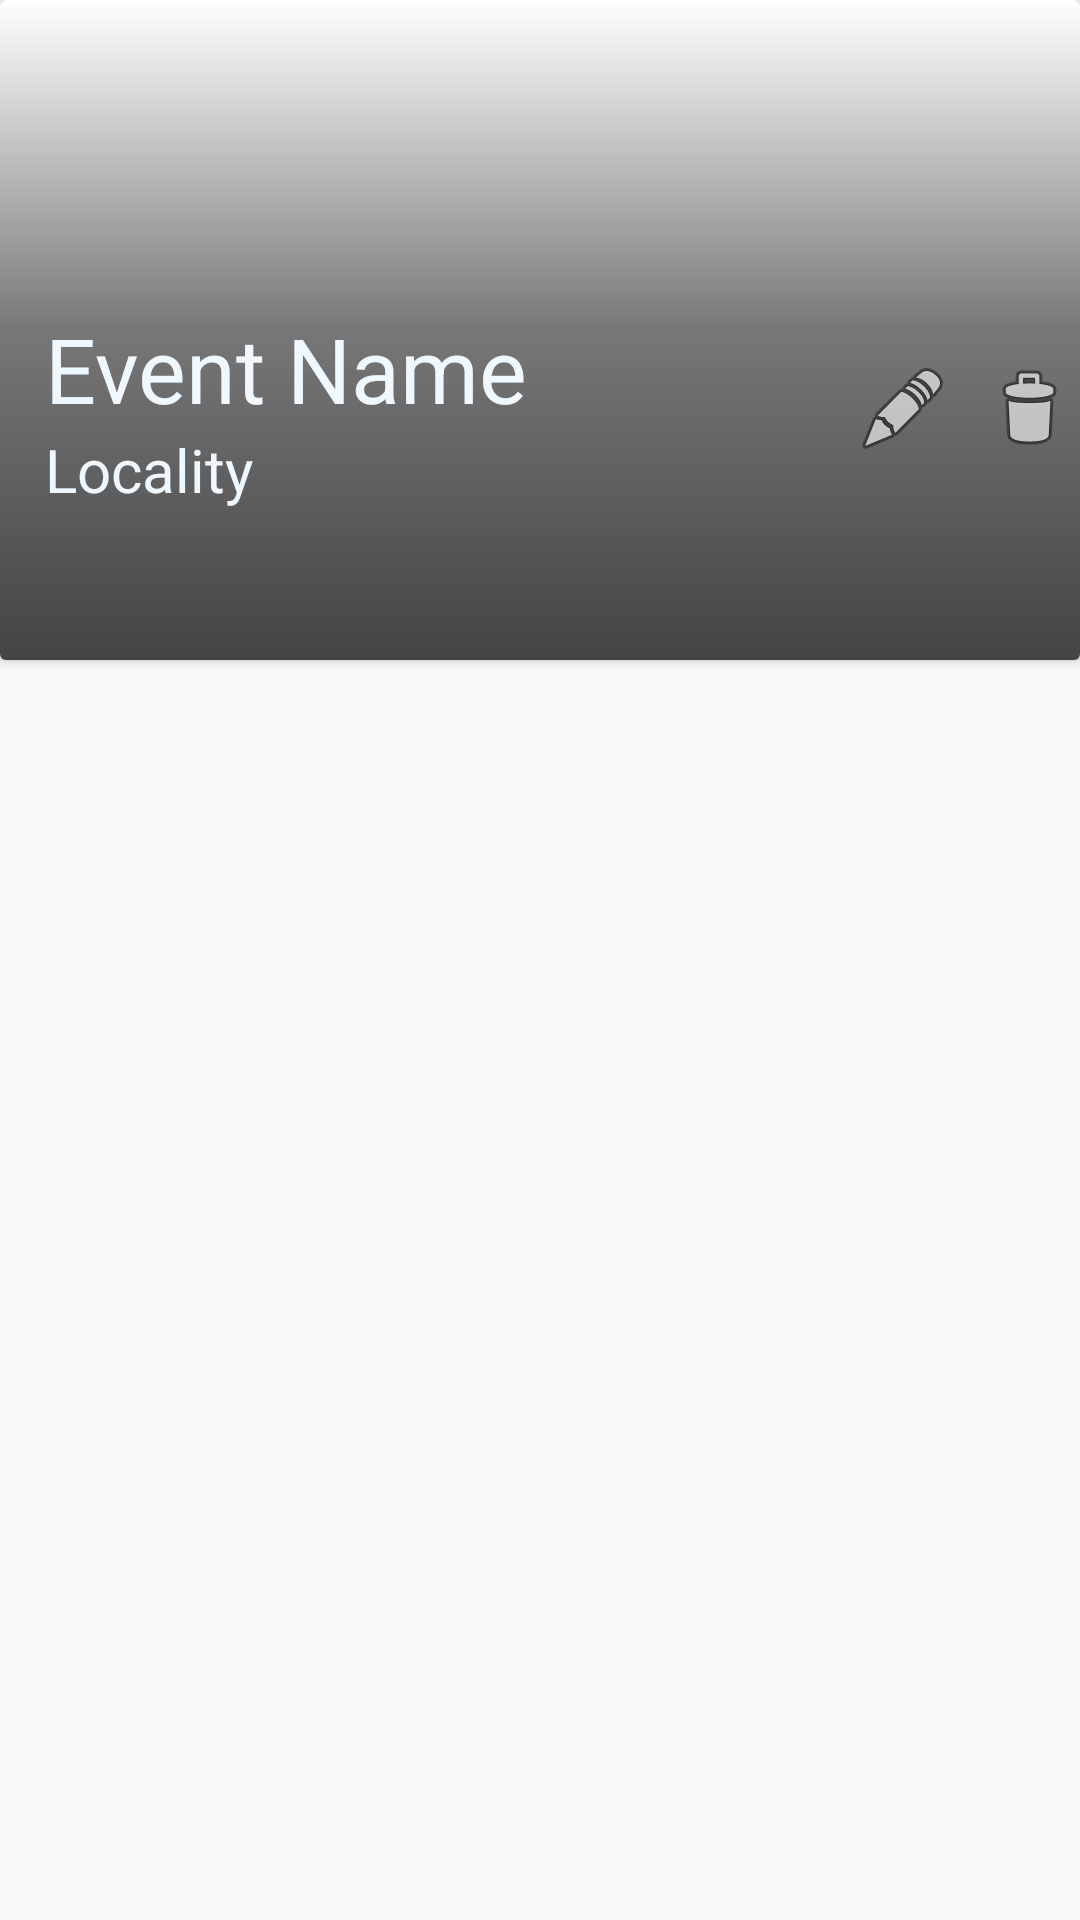

Screen size 1080 x 1920. Icon name, then its box in pixels as (x1, y1, x2, y2):
delete: (1003, 371, 1056, 445)
edit: (862, 368, 943, 449)
